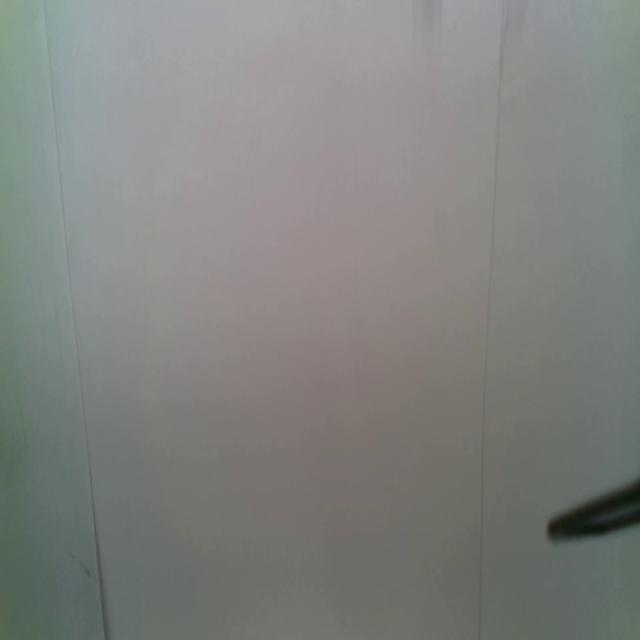crease: (42, 0, 108, 640), (476, 3, 507, 640)
